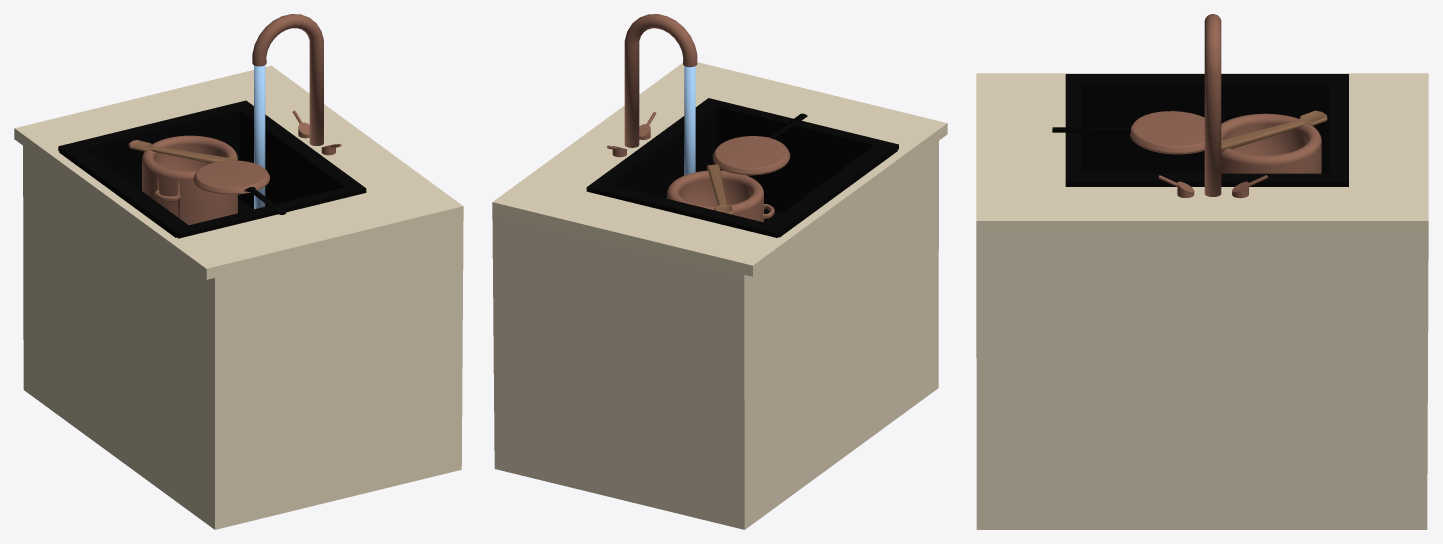
Rendered from sink.fbx.
3 renders of one model, left to right at view 1: azimuth 30°, elevation 25°; view 2: azimuth 150°, elevation 25°; view 3: azimuth 270°, elevation 25°, orthographic. The views are drawn at different scales.
Parts seen in each view (by area): view 1: evier_support, evier, marmite.001, robinet, casserol, water, cuillère.001; view 2: evier_support, evier, robinet, marmite.001, casserol, water, cuillère.001; view 3: evier_support, evier, marmite.001, casserol, robinet, cuillère.001.
Boxes of the visible parts, x1,y1,x2,y2 form: evier_support: [14, 65, 463, 529]; evier: [58, 100, 366, 238]; marmite.001: [142, 135, 237, 224]; robinet: [252, 14, 323, 145]; casserol: [193, 160, 286, 214]; water: [254, 65, 265, 209]; cuillère.001: [128, 140, 237, 163]; evier_support: [492, 62, 947, 529]; evier: [586, 98, 898, 237]; robinet: [624, 14, 697, 147]; marmite.001: [667, 170, 774, 222]; casserol: [712, 113, 807, 175]; water: [684, 66, 695, 175]; cuillère.001: [707, 164, 733, 214]; evier_support: [976, 73, 1428, 529]; evier: [1065, 74, 1348, 186]; marmite.001: [1221, 113, 1321, 173]; casserol: [1052, 111, 1204, 154]; robinet: [1204, 14, 1221, 196]; cuillère.001: [1221, 110, 1327, 152].
Size of the model in its own units: 13631 by 20202 by 17648.
